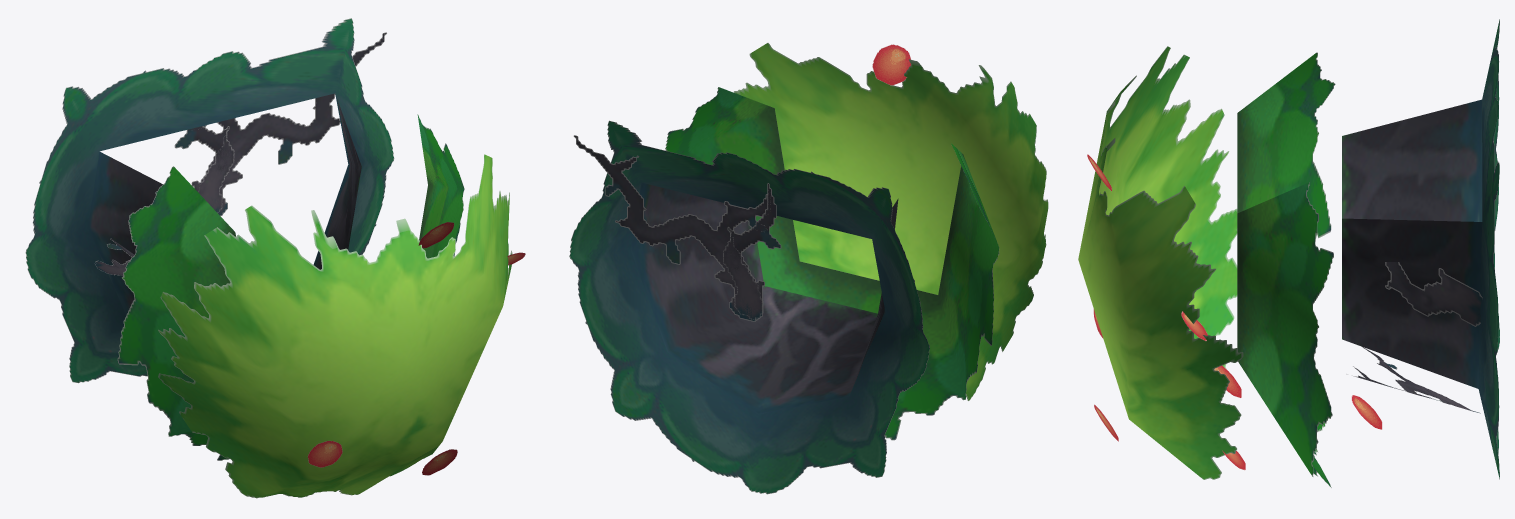
3 views of the same model, side by side, from view 1: azimuth 30°, elevation 25°; view 2: azimuth 150°, elevation 25°; view 3: azimuth 270°, elevation 25° (orthographic). The views are drawn at different scales.
Visible parts, largest first — view 1: outershell.modelset_shrub-MeshSets[base].Mesh[0], outershell.modelset_shrub-MeshSets[twig2].Mesh[0], outershell.modelset_shrub-MeshSets[twig1].Mesh[0], outershell.modelset_shrub-MeshSets[berries].Mesh[0]; view 2: outershell.modelset_shrub-MeshSets[base].Mesh[0], outershell.modelset_shrub-MeshSets[twig2].Mesh[0], outershell.modelset_shrub-MeshSets[twig1].Mesh[0], outershell.modelset_shrub-MeshSets[berries].Mesh[0]; view 3: outershell.modelset_shrub-MeshSets[base].Mesh[0], outershell.modelset_shrub-MeshSets[berries].Mesh[0].
Part boxes in pixels (box(x1,y1,x2,y2)): outershell.modelset_shrub-MeshSets[base].Mesh[0]: box(25, 18, 512, 498); outershell.modelset_shrub-MeshSets[twig2].Mesh[0]: box(198, 32, 386, 216); outershell.modelset_shrub-MeshSets[twig1].Mesh[0]: box(174, 126, 234, 212); outershell.modelset_shrub-MeshSets[berries].Mesh[0]: box(307, 222, 525, 475); outershell.modelset_shrub-MeshSets[base].Mesh[0]: box(569, 43, 1048, 494); outershell.modelset_shrub-MeshSets[twig2].Mesh[0]: box(573, 135, 770, 321); outershell.modelset_shrub-MeshSets[twig1].Mesh[0]: box(723, 183, 781, 319); outershell.modelset_shrub-MeshSets[berries].Mesh[0]: box(872, 44, 910, 85); outershell.modelset_shrub-MeshSets[base].Mesh[0]: box(1078, 19, 1499, 487); outershell.modelset_shrub-MeshSets[berries].Mesh[0]: box(1087, 154, 1382, 470).
Bounding box in the file's own units: 1.61 × 1.38 × 1.37.
Materials: 1 (1 with a texture image).
